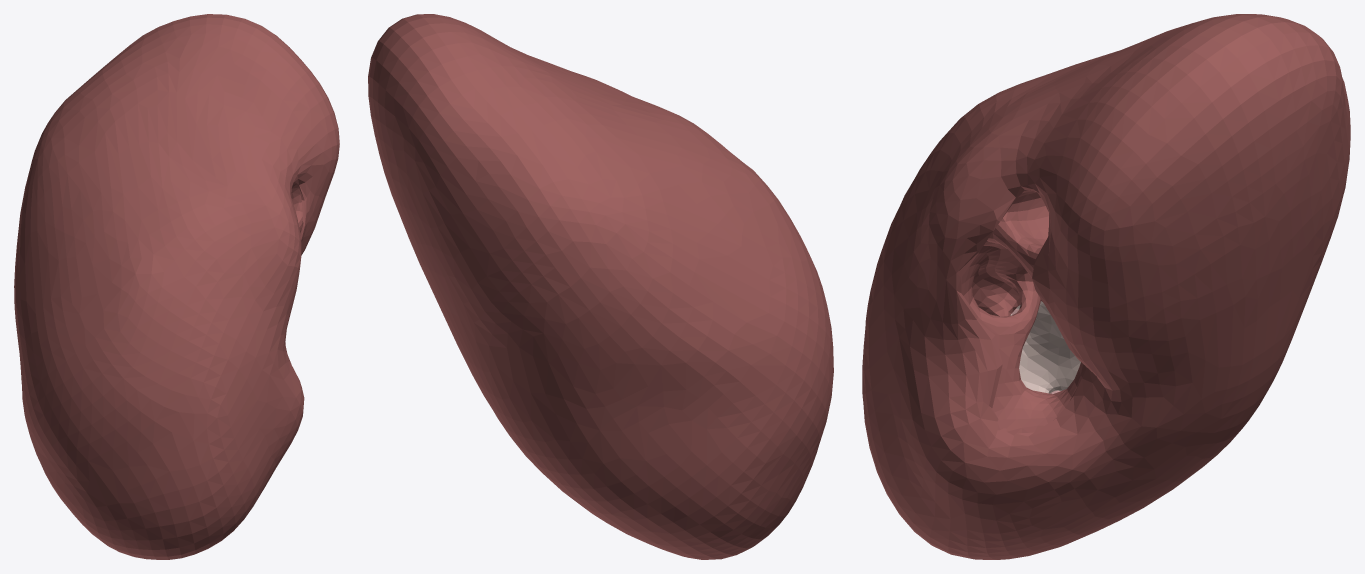
The model's file is VH_F_Kidney_R_0.6.glb.
3 views of the same model, side by side, from view 1: azimuth 30°, elevation 25°; view 2: azimuth 150°, elevation 25°; view 3: azimuth 270°, elevation 25° (orthographic). The views are drawn at different scales.
Visible parts, largest first — view 1: VH_F_kidney_capsule_R; view 2: VH_F_kidney_capsule_R; view 3: VH_F_kidney_capsule_R, VH_F_hilum_of_kidney_R, VH_F_renal_column_R.
Part boxes in pixels (box(x1,y1,x2,y2)): VH_F_kidney_capsule_R: box(14, 14, 339, 559); VH_F_kidney_capsule_R: box(368, 14, 833, 559); VH_F_kidney_capsule_R: box(862, 14, 1350, 559); VH_F_hilum_of_kidney_R: box(961, 190, 1086, 436); VH_F_renal_column_R: box(1010, 301, 1080, 393).
Size of the model in its own units: 0.0734 by 0.0979 by 0.0695.
